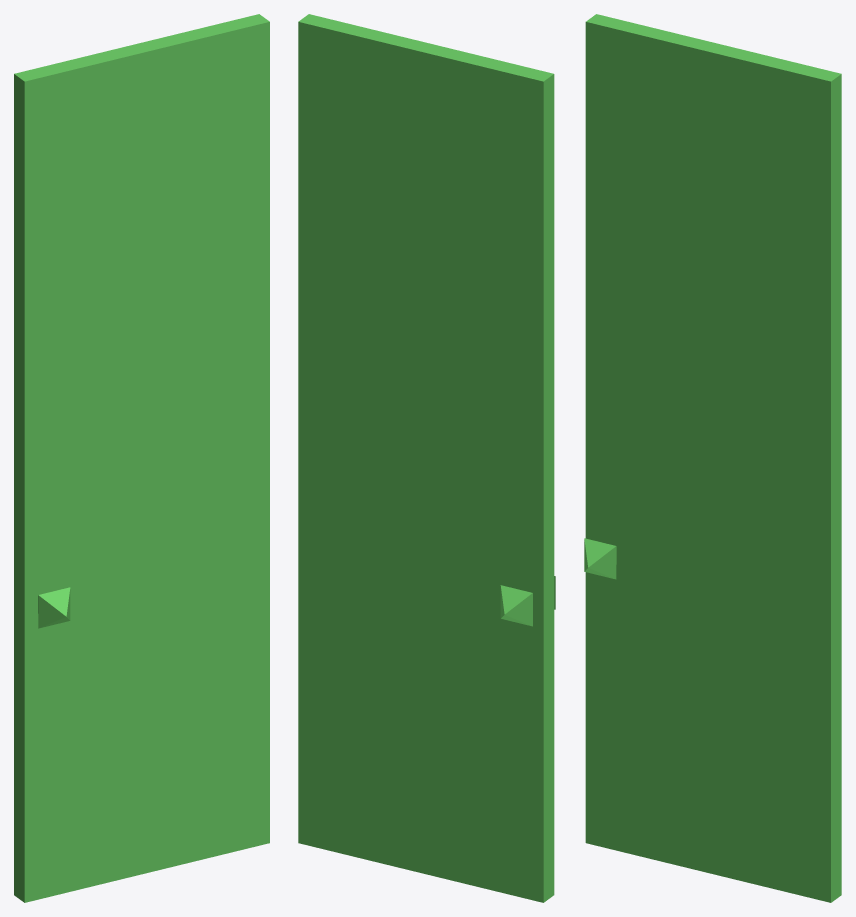
Rendered from Gen_Door_B_Fr_Side2.fbx.
The picture shows the model from 3 angles, left to right: view 1: azimuth 30°, elevation 25°; view 2: azimuth 150°, elevation 25°; view 3: azimuth 330°, elevation 25°; orthographic projection.
Parts seen in each view (by area): view 1: Gen_Door_B_Fr_Side2; view 2: Gen_Door_B_Fr_Side2; view 3: Gen_Door_B_Fr_Side2.
Boxes of the visible parts, box(x1,y1,x2,y2) form: Gen_Door_B_Fr_Side2: box(14, 14, 269, 902); Gen_Door_B_Fr_Side2: box(298, 14, 555, 902); Gen_Door_B_Fr_Side2: box(584, 14, 841, 902).
Bounding box in the file's own units: 100 × 320 × 33.3.
